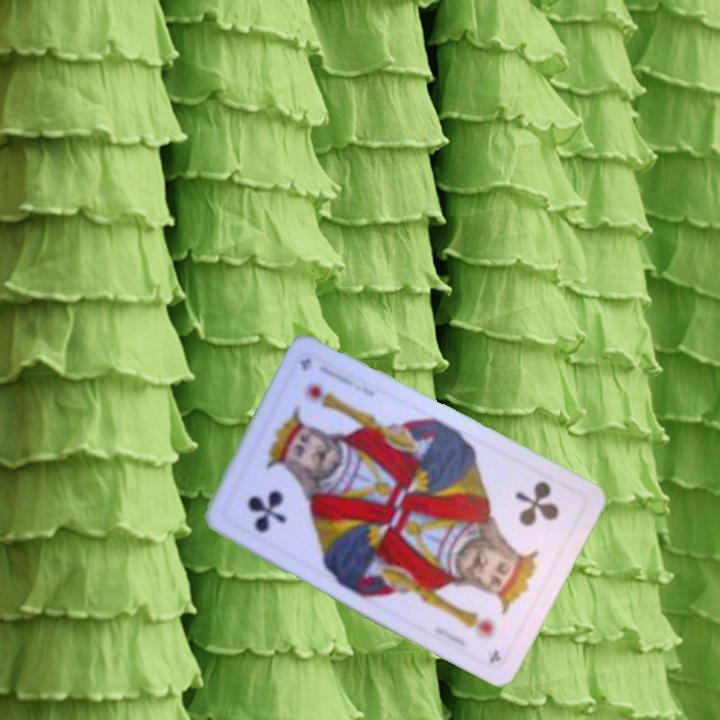c_k.png: (217, 434, 337, 560), (470, 460, 590, 586)
